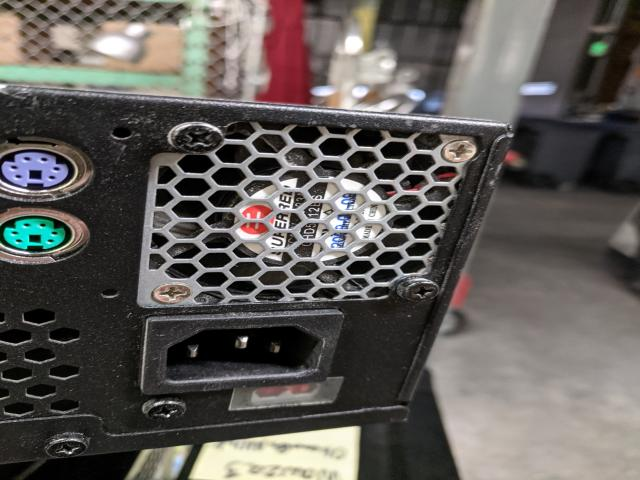CRS: (170, 121, 224, 153), (41, 432, 93, 461), (143, 398, 190, 422), (151, 281, 193, 307), (399, 278, 441, 303), (441, 139, 478, 164)
